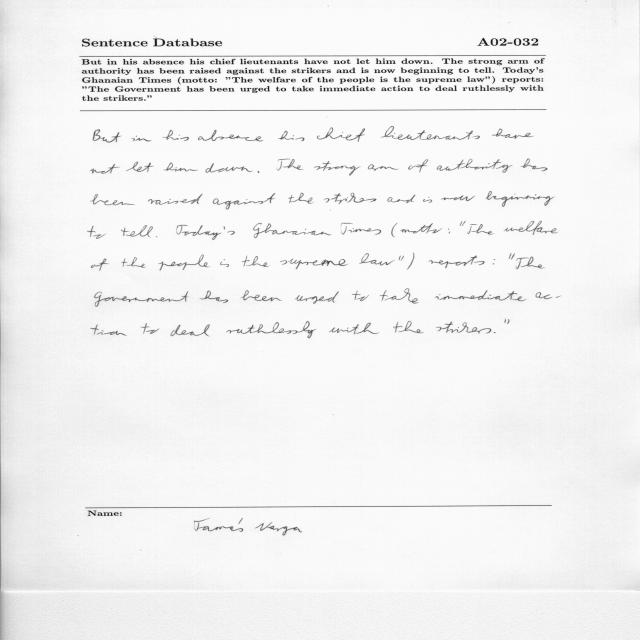word: (226, 321, 316, 338), (95, 292, 188, 307), (381, 127, 480, 141), (253, 223, 332, 238), (485, 191, 555, 207), (437, 159, 513, 173), (213, 193, 275, 210), (435, 291, 526, 302), (176, 225, 235, 240), (158, 255, 210, 271), (504, 221, 558, 235), (429, 256, 485, 269), (317, 127, 365, 142), (198, 130, 263, 141), (314, 161, 361, 176), (280, 259, 348, 269), (436, 322, 491, 334), (148, 194, 203, 205), (329, 323, 379, 335), (380, 289, 419, 304), (324, 193, 376, 204), (295, 292, 339, 304), (92, 194, 135, 206), (341, 223, 381, 235), (170, 325, 210, 337), (206, 163, 253, 173), (492, 128, 534, 139), (240, 291, 282, 302), (359, 254, 395, 266), (401, 224, 443, 234), (121, 225, 153, 238), (91, 325, 127, 336), (93, 130, 122, 143), (393, 321, 424, 333), (516, 257, 544, 269), (200, 291, 228, 303), (521, 159, 548, 171), (164, 163, 199, 172), (277, 159, 303, 171), (90, 164, 120, 174), (162, 130, 189, 141), (468, 224, 495, 235), (242, 256, 269, 267), (126, 162, 154, 172), (288, 193, 313, 204), (121, 257, 146, 268), (278, 131, 304, 141), (408, 160, 428, 173), (88, 226, 106, 239), (388, 195, 416, 203), (92, 259, 110, 271), (368, 164, 398, 171), (141, 323, 160, 334), (441, 195, 475, 201), (536, 292, 562, 299), (352, 291, 369, 301), (132, 136, 152, 142), (407, 253, 414, 270), (391, 223, 397, 237), (220, 259, 229, 267), (423, 197, 432, 203), (509, 253, 515, 260), (460, 221, 465, 226), (399, 256, 404, 261), (505, 320, 510, 324), (493, 259, 496, 264), (448, 229, 450, 234), (258, 171, 260, 173), (156, 237, 157, 238), (494, 332, 495, 333)
